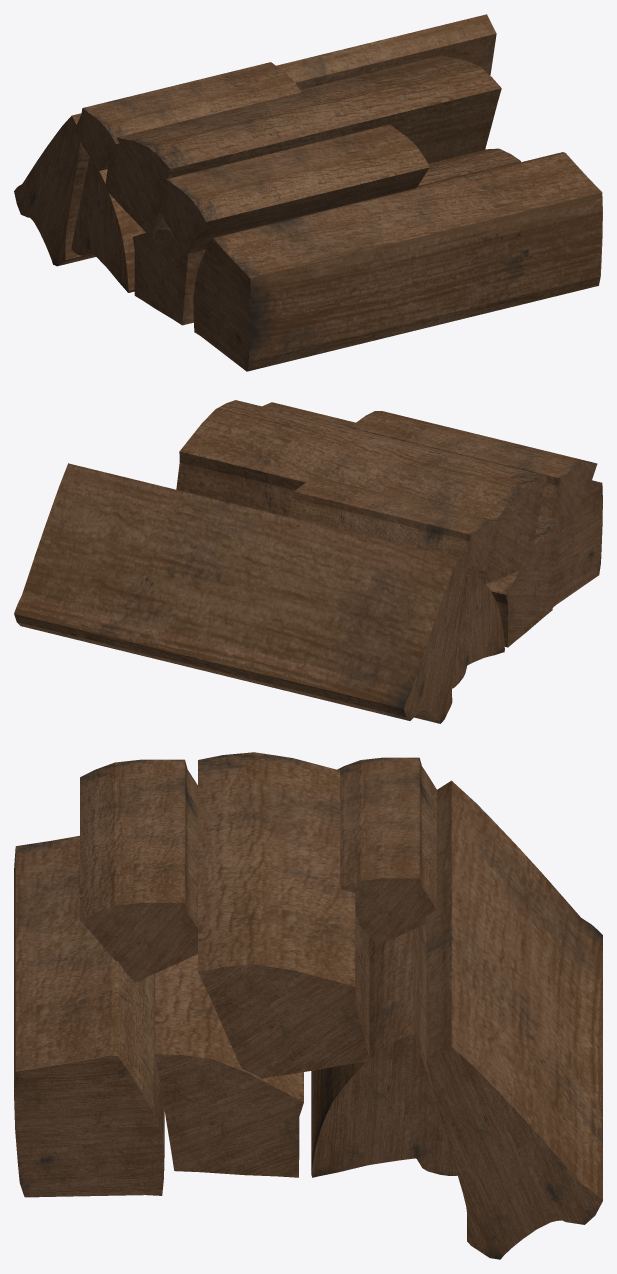
The model's file is wood.fbx.
3 views of the same model, one above another, from view 1: azimuth 30°, elevation 25°; view 2: azimuth 150°, elevation 25°; view 3: azimuth 270°, elevation 25° (orthographic). The views are drawn at different scales.
Visible parts, largest first — view 1: Fire-wood3; view 2: Fire-wood3; view 3: Fire-wood3.
Part boxes in pixels (x1=…): Fire-wood3: x1=14, y1=14, x2=602, y2=371; Fire-wood3: x1=14, y1=400, x2=602, y2=723; Fire-wood3: x1=14, y1=752, x2=602, y2=1259.
Bounding box in the file's own units: 63.89 × 26.79 × 58.83.
1 material, 1 textured.
